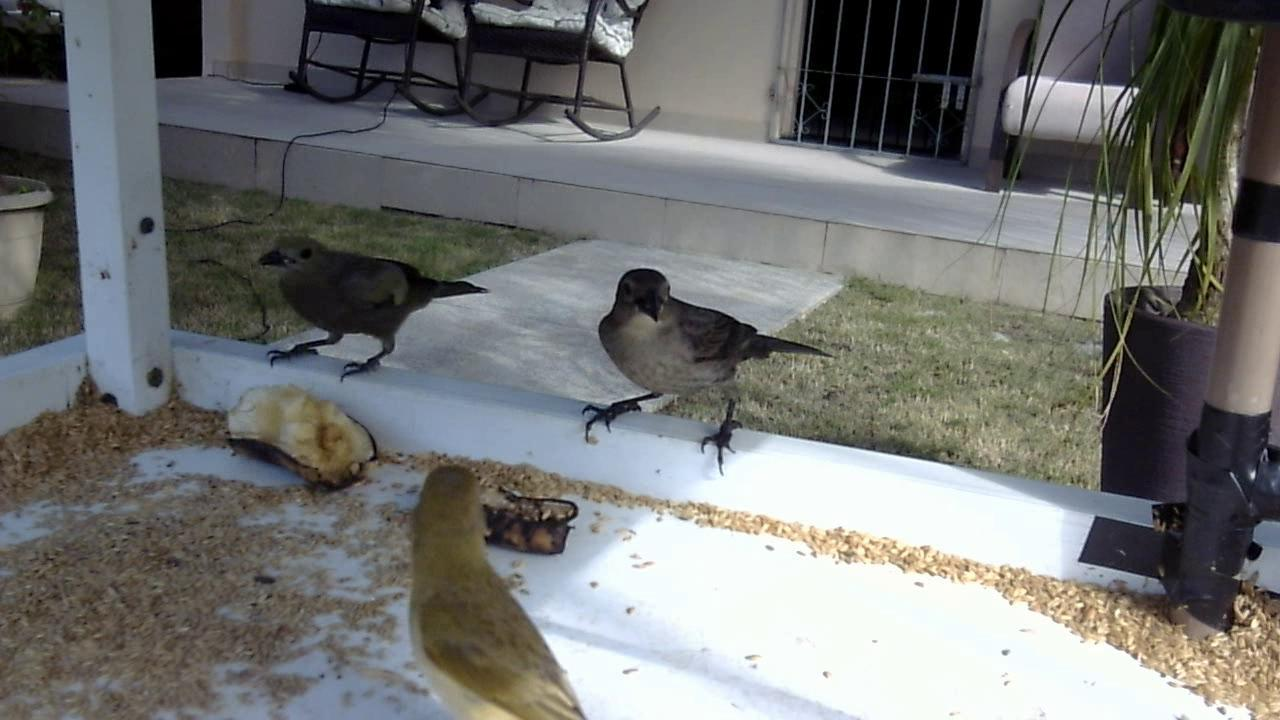canario_do_amazonas: (405, 469, 592, 720)
chupim: (572, 261, 843, 478)
sanhaco_do_coqueiro: (250, 233, 494, 387)
